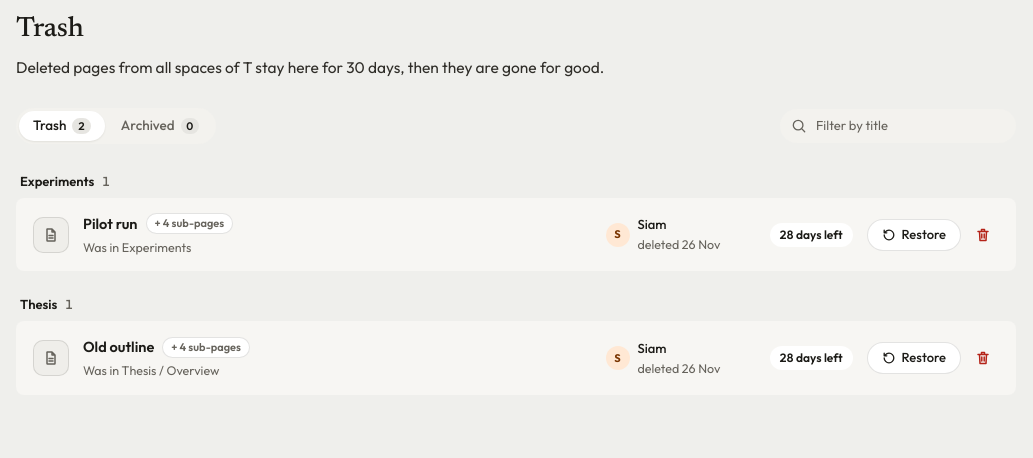
Test: team trash › groupsBranchesBySpaceAndRestoresFromAnyOfThem
Expected: the text "Pilot run" is shown, [83,213,138,235]
Expected: the text "Was in Experiments" is shown, [83,238,191,254]
Click the button "Restore" in the row of "Pilot run".
click(914, 234)  # box [867,218,961,250]
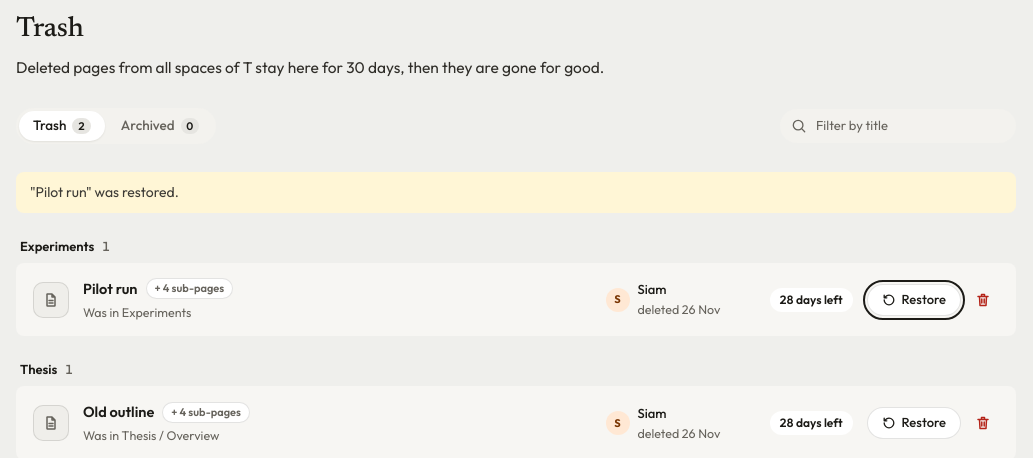
Expected: the message reads "\"Pilot run\" was restored.", [30,183,179,201]
